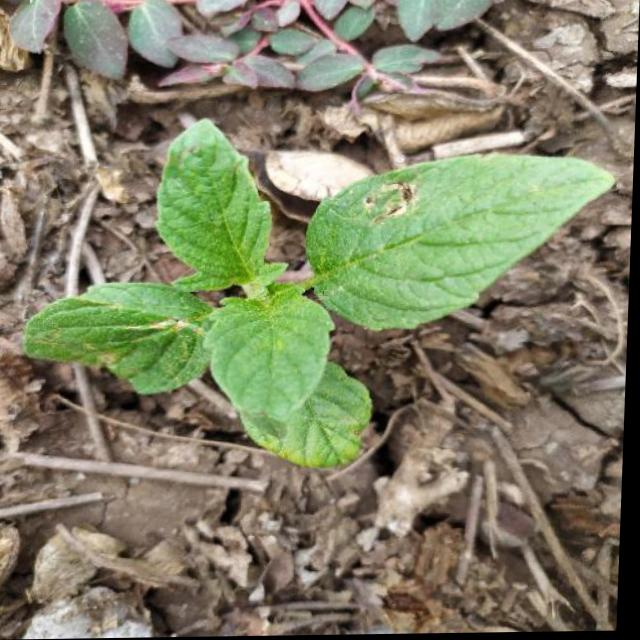crop: (7, 112, 620, 479)
